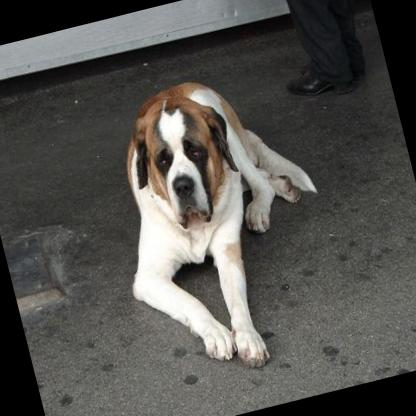Saint_Bernard: (84, 55, 354, 394)
